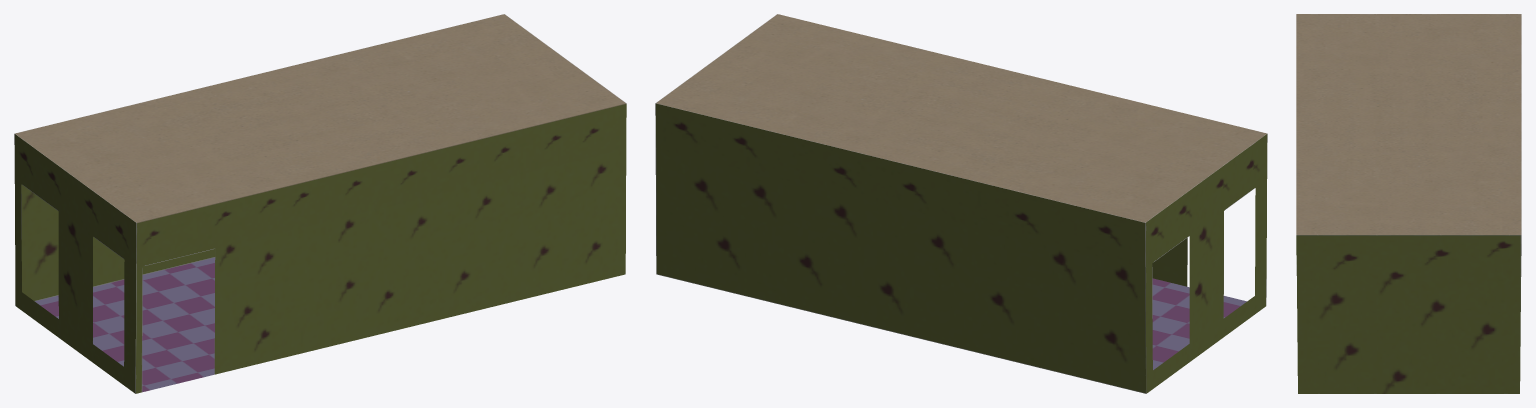
The model's file is ParedCocina.obj.
3 views of the same model, side by side, from view 1: azimuth 30°, elevation 25°; view 2: azimuth 150°, elevation 25°; view 3: azimuth 270°, elevation 25° (orthographic). The views are drawn at different scales.
Visible parts, largest first — view 1: ParedCocina:Material_042, ParedCocina:Material_024, ParedCocina:ParedCocina_Plano_010; view 2: ParedCocina:Material_042, ParedCocina:Material_024, ParedCocina:ParedCocina_Plano_010; view 3: ParedCocina:Material_024, ParedCocina:Material_042.
Boxes of the visible parts, x1,y1,x2,y2 form: ParedCocina:Material_042: [14, 103, 626, 393]; ParedCocina:Material_024: [14, 14, 625, 222]; ParedCocina:ParedCocina_Plano_010: [35, 257, 215, 392]; ParedCocina:Material_042: [655, 103, 1267, 393]; ParedCocina:Material_024: [656, 14, 1267, 222]; ParedCocina:ParedCocina_Plano_010: [1152, 278, 1246, 369]; ParedCocina:Material_024: [1296, 14, 1521, 234]; ParedCocina:Material_042: [1296, 235, 1521, 393].
Bounding box in the file's own units: 31.03 × 10.39 × 13.38.
1 material, 1 textured.
